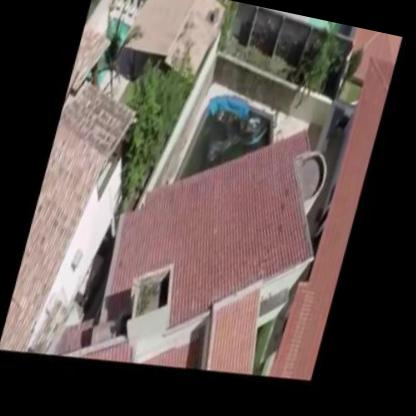agua: (200, 108, 262, 164)
